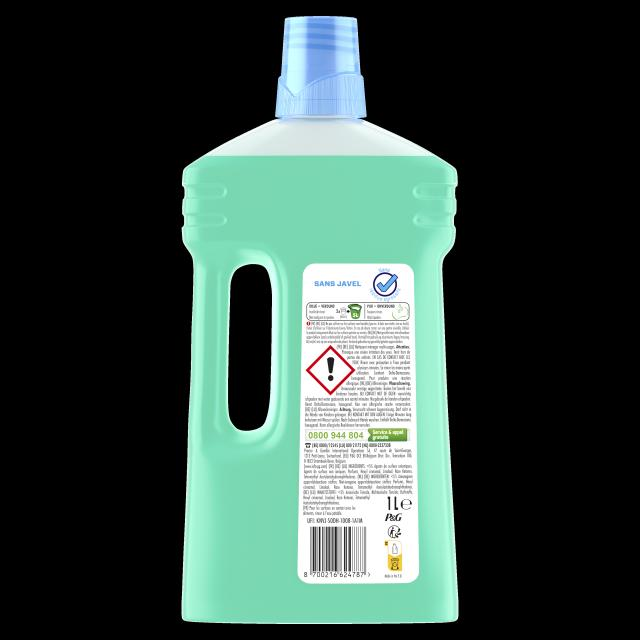GHS_Symbol_EXCLAMATION_MARK: (306, 344, 356, 396)
